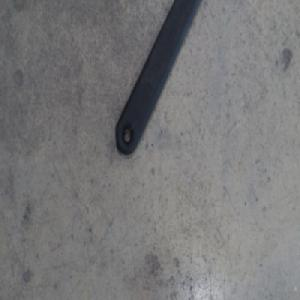AdjustableWrench: (116, 0, 202, 155)
